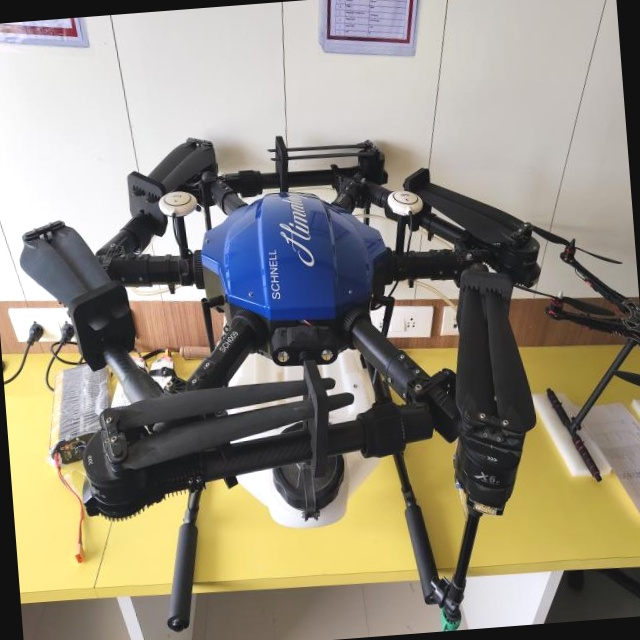agriculturedrone: (5, 97, 614, 640)
